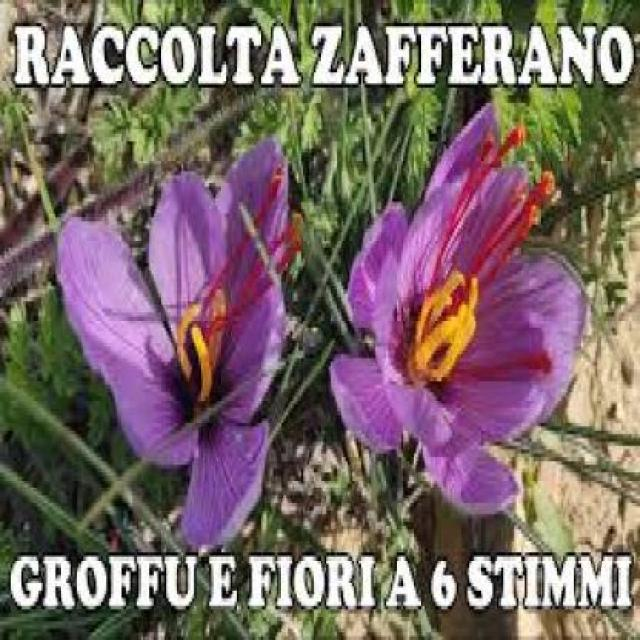saffron open: (330, 107, 587, 512), (57, 140, 291, 547)
